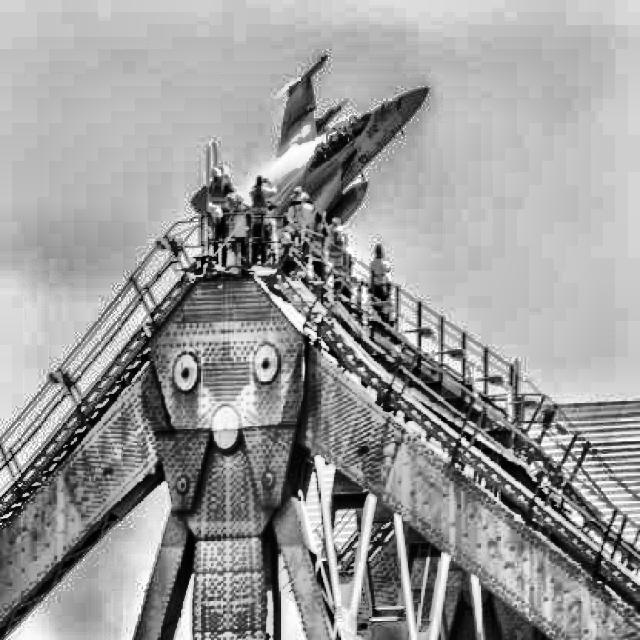F18: (190, 54, 430, 226)
